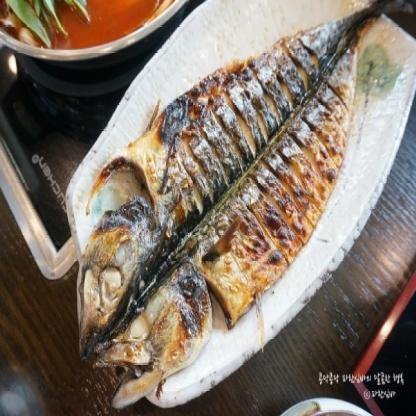Peixe: (80, 3, 384, 390)
